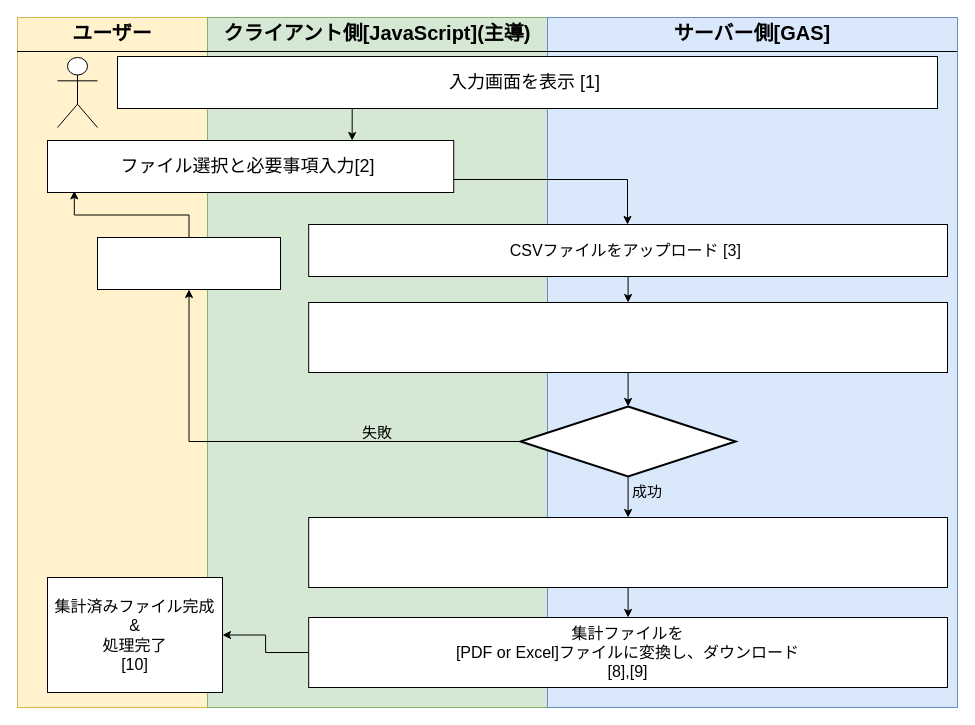
Image size: 975x725. Some labels were removed from this diagram. Here are the shapes that lost their labels. From the top down, the centre of each, then its label:
At point 188,263: "やり直し [5]".
At point 628,337: "アップロード済みのCSVファイルのバリデーションチェック [4]".
At point 627,441: "チェック結果 [5]".
At point 628,552: "集計ファイル生成とCSVデータの集計、仕上げ処理 [5],[6],[7]".
